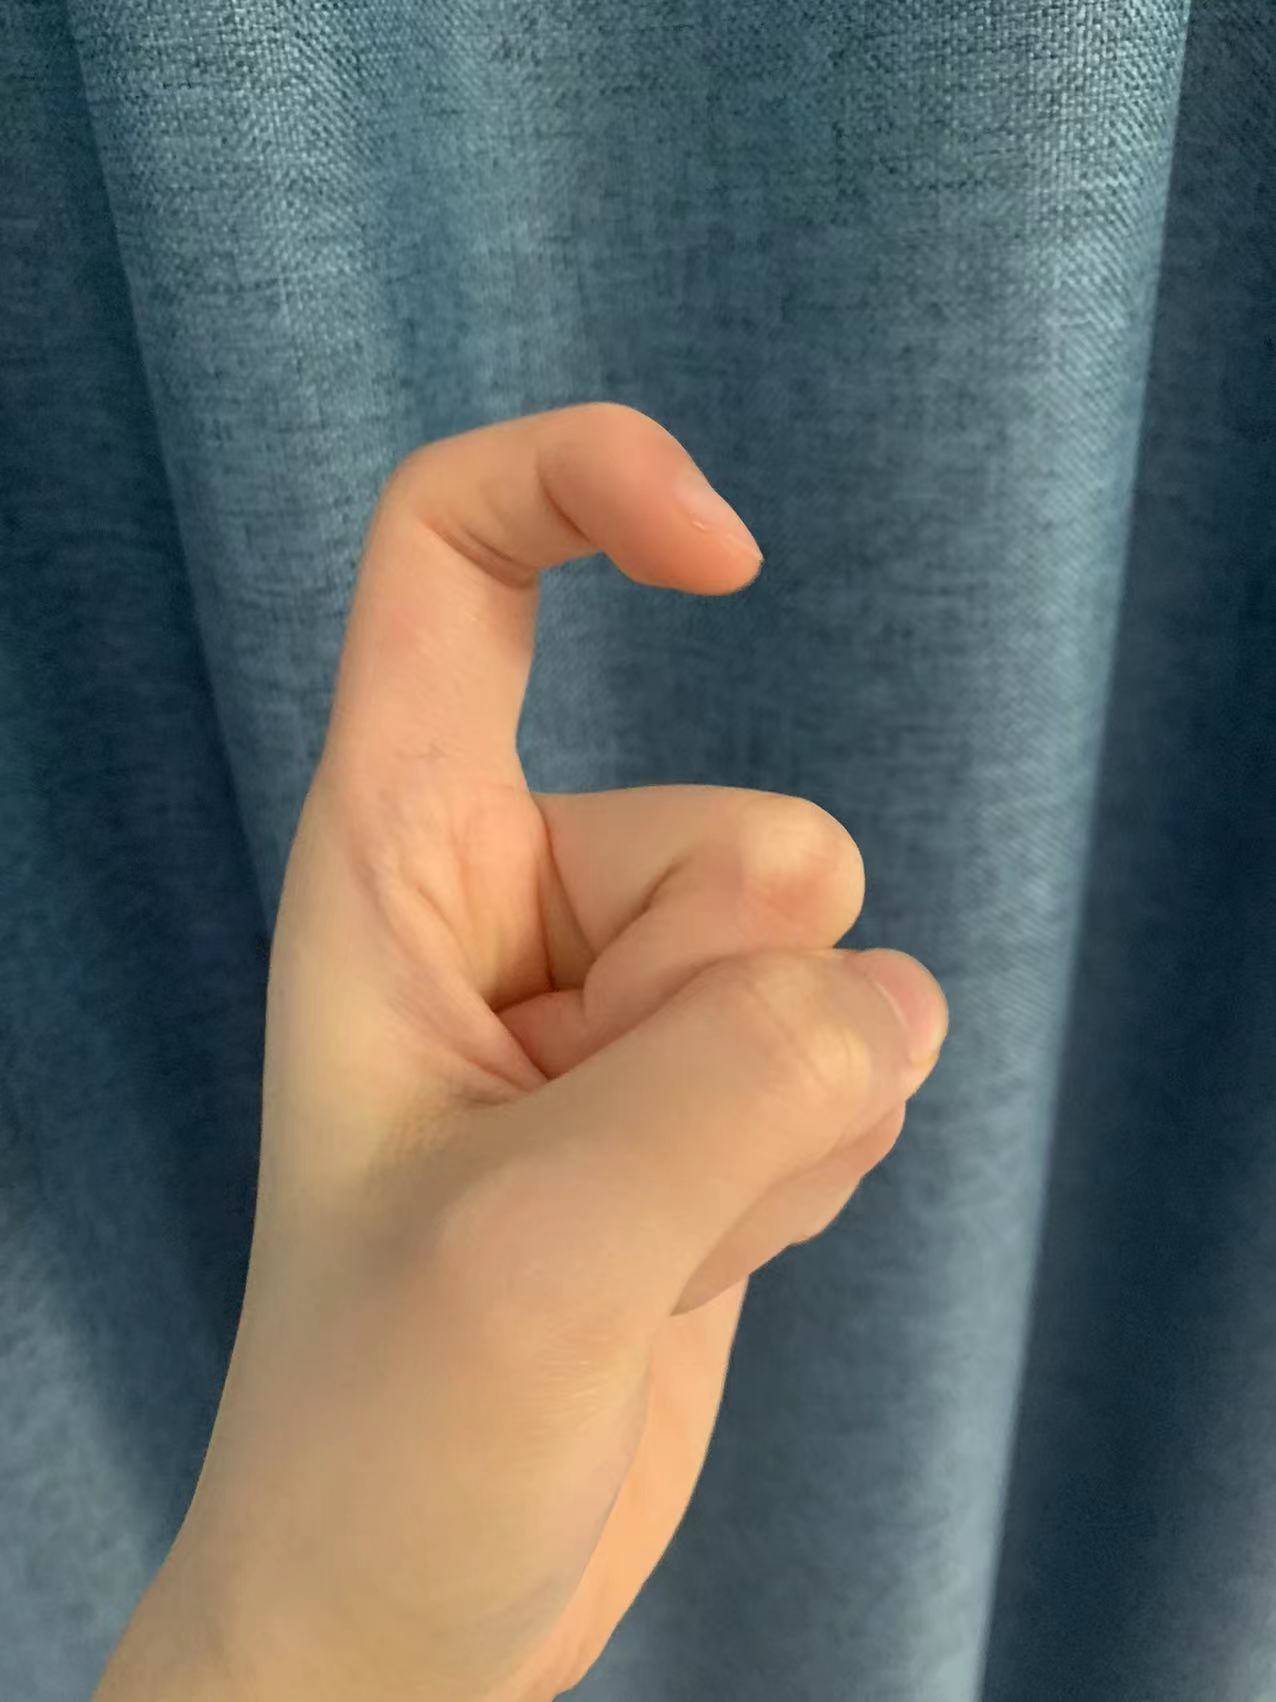anticlockwise: (205, 385, 962, 1536)
